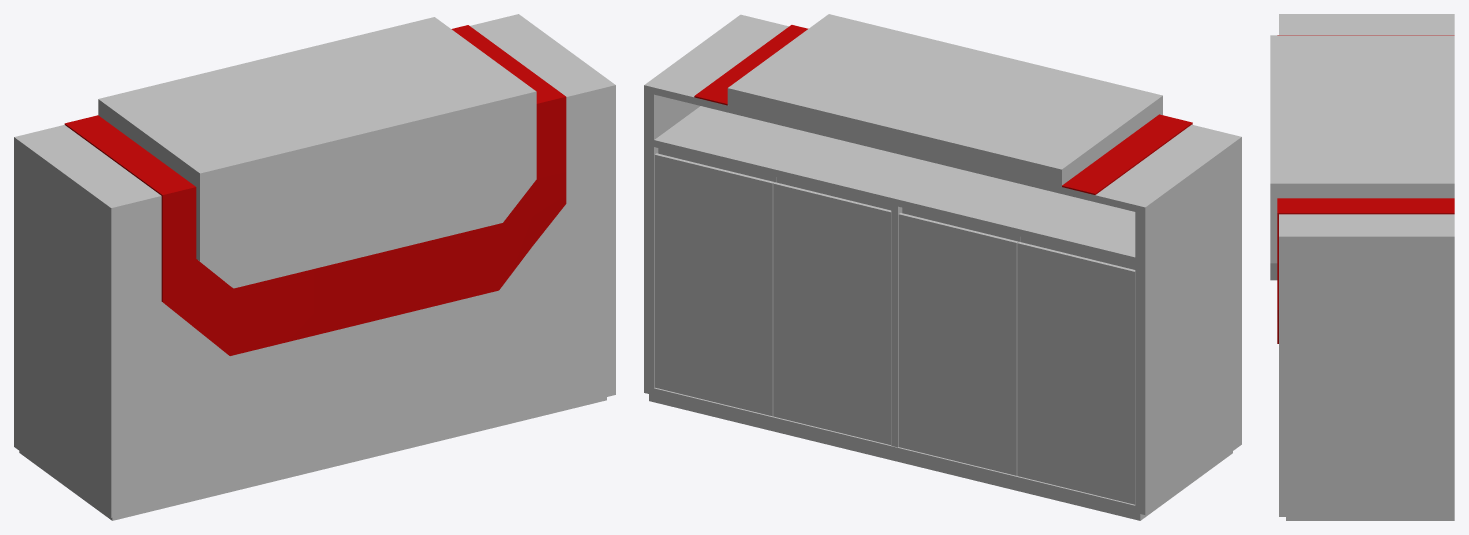
File: Information Counter 1.fbx
3 renders of one model, left to right at view 1: azimuth 30°, elevation 25°; view 2: azimuth 150°, elevation 25°; view 3: azimuth 270°, elevation 25°, orthographic. The views are drawn at different scales.
Parts seen in each view (by area): view 1: Information_Counter; view 2: Information_Counter; view 3: Information_Counter.
Part boxes in pixels (bbox=[...]): Information_Counter: bbox=[14, 14, 615, 520]; Information_Counter: bbox=[644, 14, 1241, 520]; Information_Counter: bbox=[1270, 14, 1454, 520].
Size of the model in its own units: 150 by 95 by 52.44.
